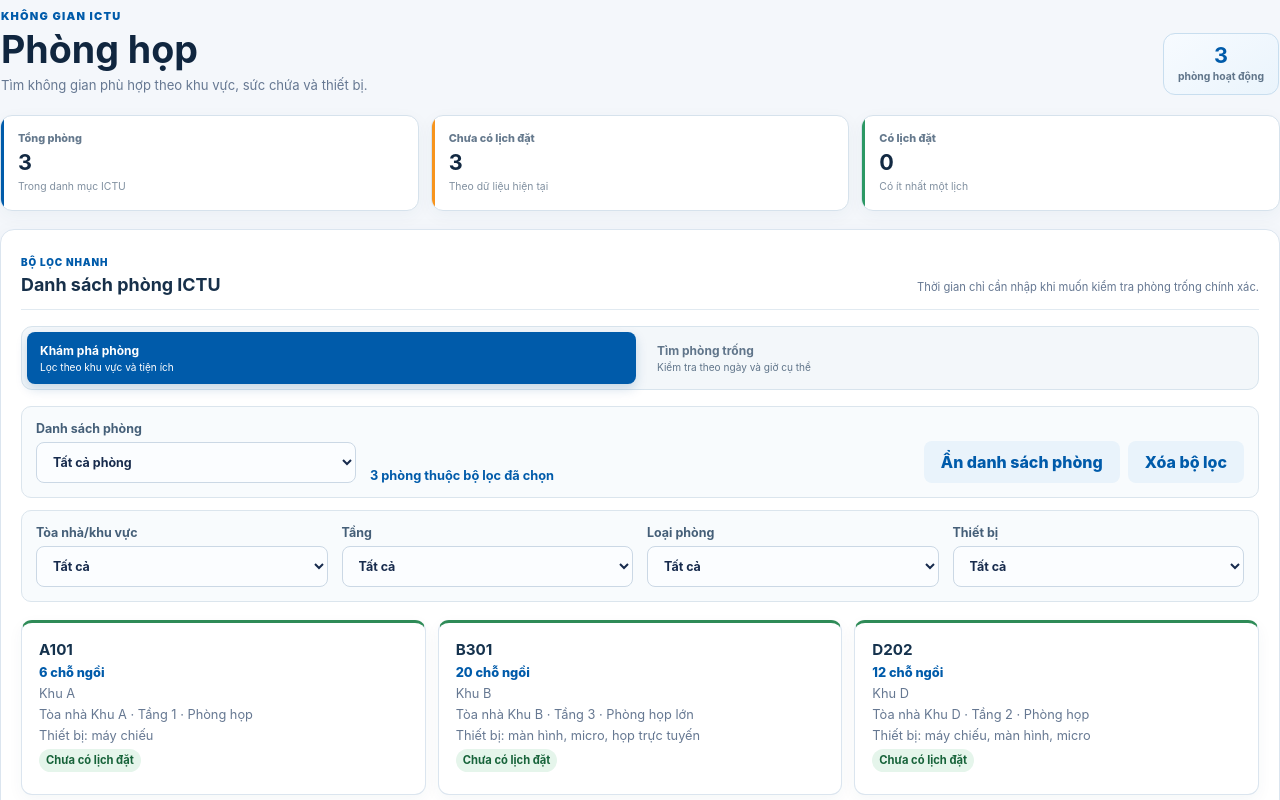
Test case: RoomDirectory filters › can clear all room filters and hide the catalog
Expected: the text "A101" is shown, [39, 640, 73, 659]
Select "2" in the dropdown labelled "Tầng" at x=487, y=566, box [342, 546, 633, 587]
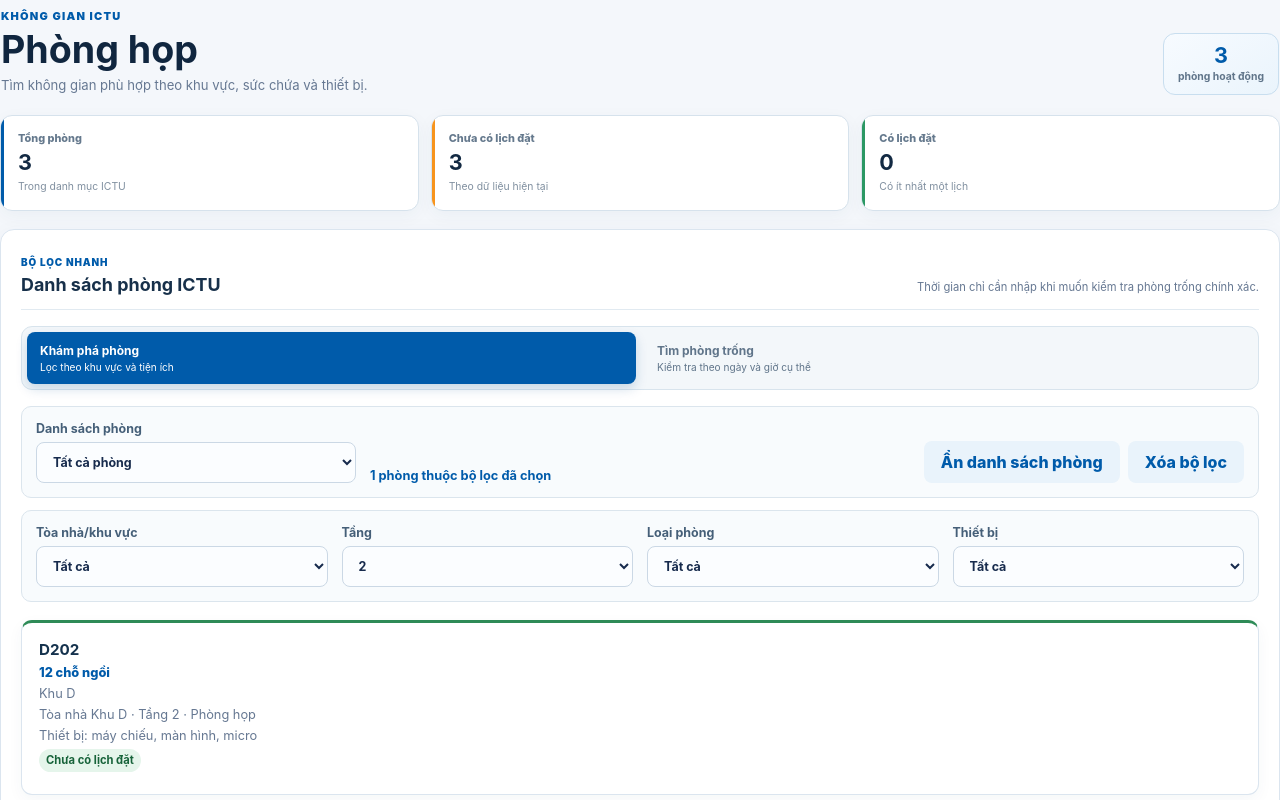
Expected: the text "A101" is gone
Click the button "Xóa bộ lọc" at x=1186, y=462, box [1128, 441, 1244, 483]
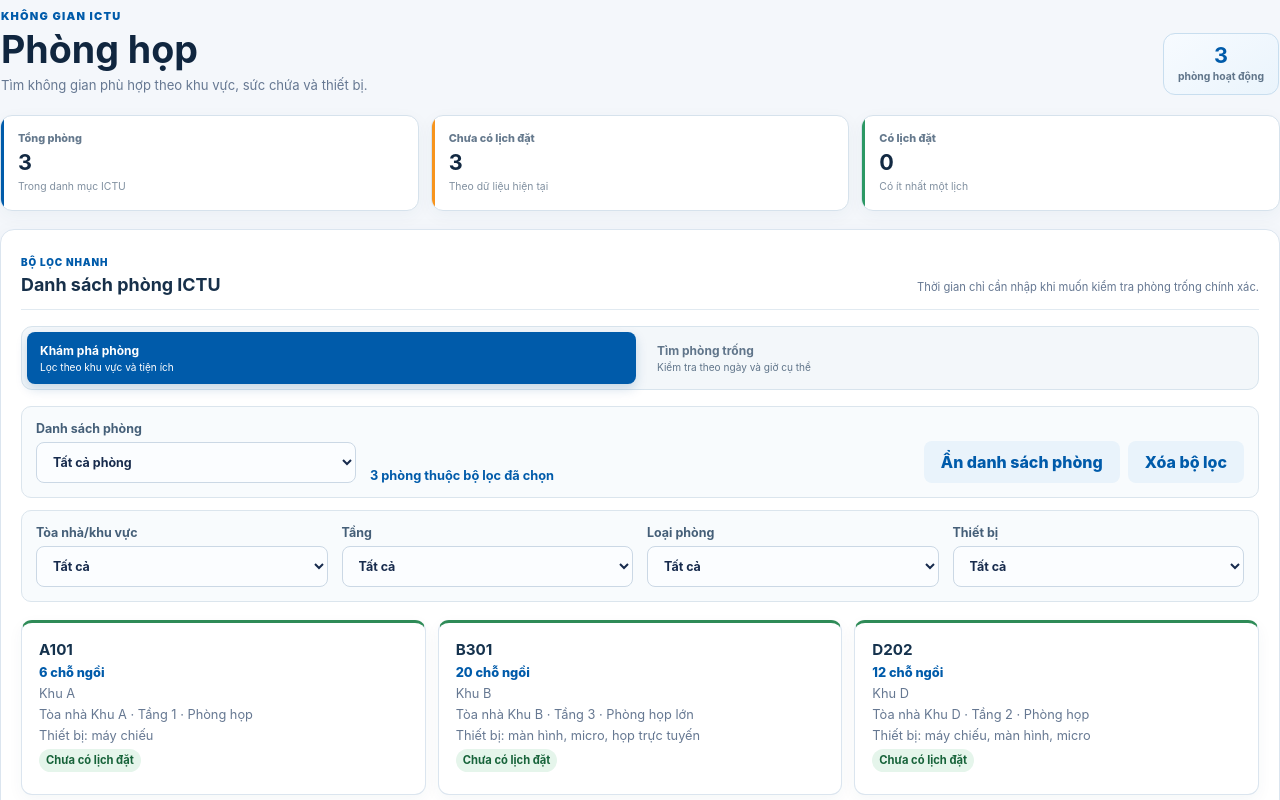
Expected: the text "A101" is shown, [39, 640, 73, 659]
Click the button "Ẩn danh sách phòng" at x=1022, y=462, box [924, 441, 1120, 483]
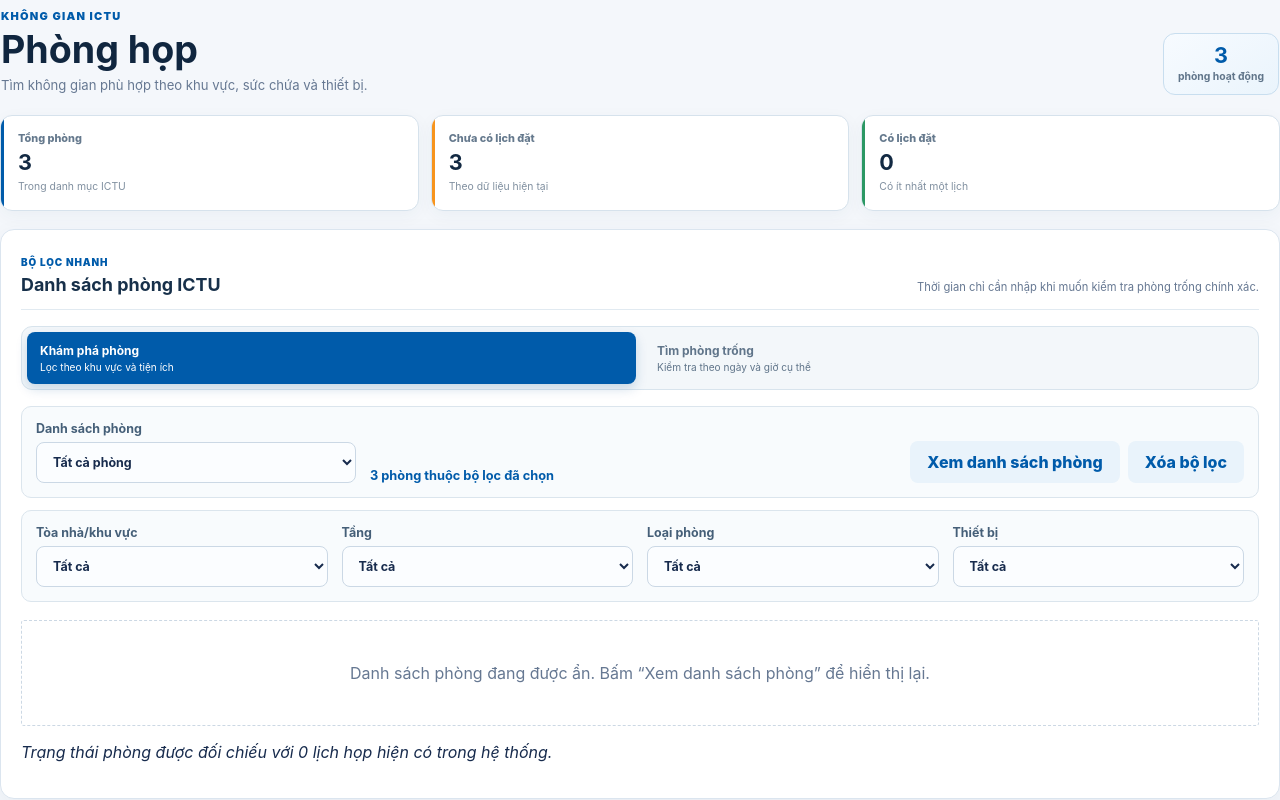
Expected: the text "A101" is gone
Expected: the text "Danh sách phòng đang được ẩn" is shown, [350, 663, 930, 683]
